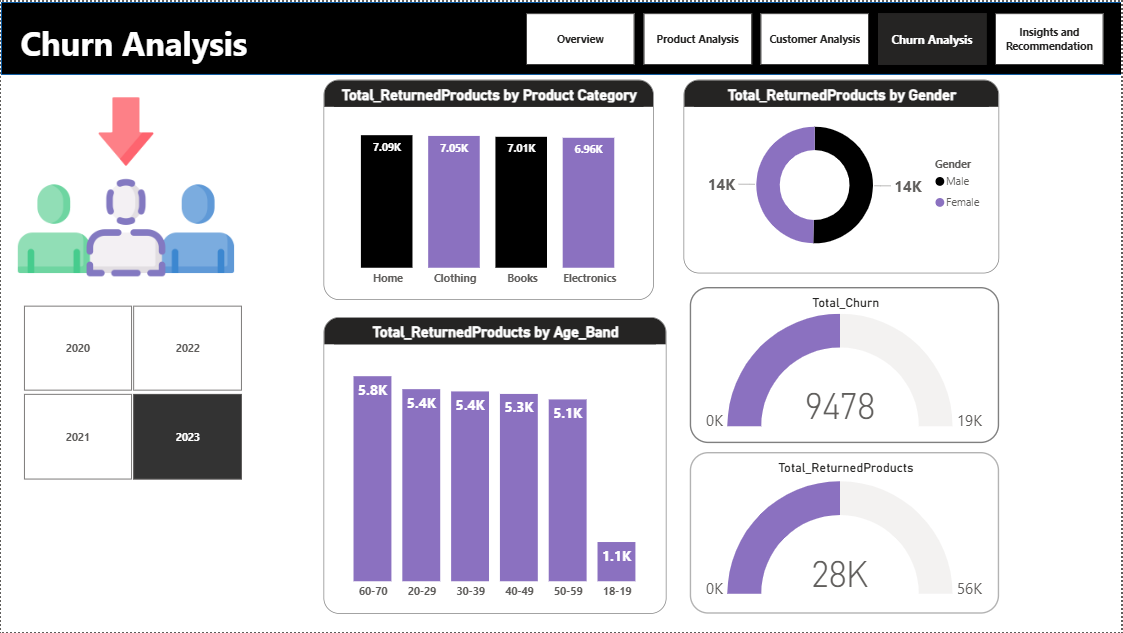

Layout of this report page (visuals, bound fields, positions):
{"tool":"powerbi","page":{"name":"Churn Analysis","canvas":[1280,720],"ordinal":3},"visuals":[{"type":"shape","box":[0,0,2380.3,83.2],"z":0},{"type":"textbox","box":[16.9,16.9,690.1,66.4],"z":1000},{"type":"gauge","fields":{"Y":["ecommerce_customer_data_large.Total_ReturnedProducts"]},"box":[786.6,513.9,353.5,184.6],"z":2000},{"type":"gauge","fields":{"Y":["ecommerce_customer_data_large.Total_Churn"]},"box":[786.6,325.7,353.5,178.6],"z":3000},{"type":"donutChart","fields":{"Y":["ecommerce_customer_data_large.Total_ReturnedProducts"],"Category":["ecommerce_customer_data_large.Gender"]},"box":[779.4,88.1,360.7,222],"z":4000},{"type":"clusteredColumnChart","fields":{"Category":["ecommerce_customer_data_large.Age_Band"],"Y":["ecommerce_customer_data_large.Total_ReturnedProducts"]},"box":[368,359.5,392.1,339],"z":5000},{"type":"clusteredColumnChart","fields":{"Category":["ecommerce_customer_data_large.Product Category"],"Y":["ecommerce_customer_data_large.Total_ReturnedProducts"]},"box":[368,88.1,377.6,252.1],"z":6000},{"type":"image","box":[0,83.2,285.9,257],"z":7000},{"type":"slicer","fields":{"Values":["ecommerce_customer_data_large.Purchase Date.Variation.Date Hierarchy.Year"]},"box":[0,340.2,299.2,212.3],"z":8000},{"type":"pageNavigator","box":[599.6,13.3,663.5,59.1],"z":9000}]}

Visuals, with their boxes in screenshot pixels (x1, y1, x2, y2), scaled from the page's 1280x720 canvas onto the 1123x633 screenshot:
shape: BBox(0, 0, 1122, 73)
textbox: BBox(15, 15, 620, 73)
gauge - ecommerce_customer_data_large.Total_ReturnedProducts: BBox(690, 452, 1000, 614)
gauge - ecommerce_customer_data_large.Total_Churn: BBox(690, 286, 1000, 443)
donutChart - ecommerce_customer_data_large.Total_ReturnedProducts x ecommerce_customer_data_large.Gender: BBox(684, 77, 1000, 273)
clusteredColumnChart - ecommerce_customer_data_large.Age_Band x ecommerce_customer_data_large.Total_ReturnedProducts: BBox(323, 316, 667, 614)
clusteredColumnChart - ecommerce_customer_data_large.Product Category x ecommerce_customer_data_large.Total_ReturnedProducts: BBox(323, 77, 654, 299)
image: BBox(0, 73, 251, 299)
slicer - ecommerce_customer_data_large.Purchase Date.Variation.Date Hierarchy.Year: BBox(0, 299, 263, 486)
pageNavigator: BBox(526, 12, 1108, 64)
